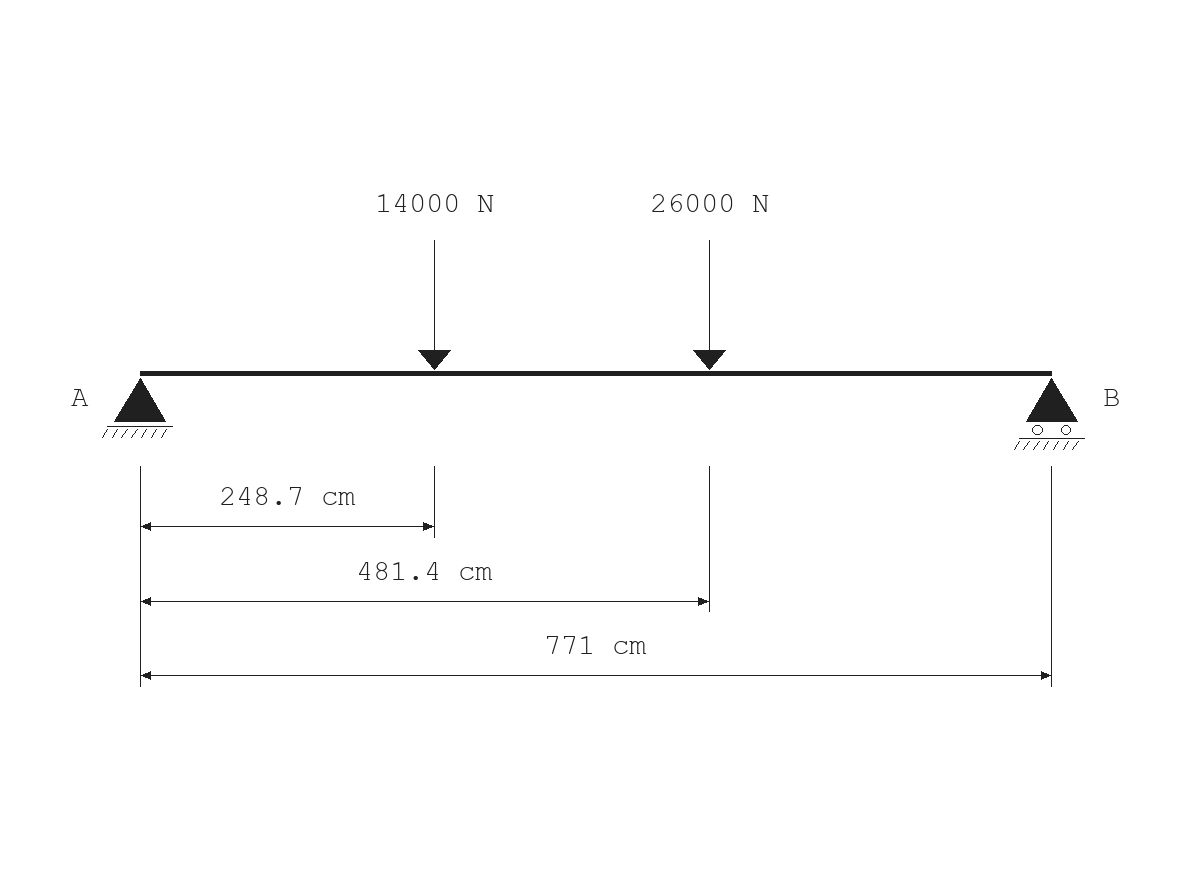pin_support: (102, 378, 173, 438)
point_load: (418, 240, 451, 370), (693, 240, 726, 370)
roller_support: (1014, 378, 1085, 450)
